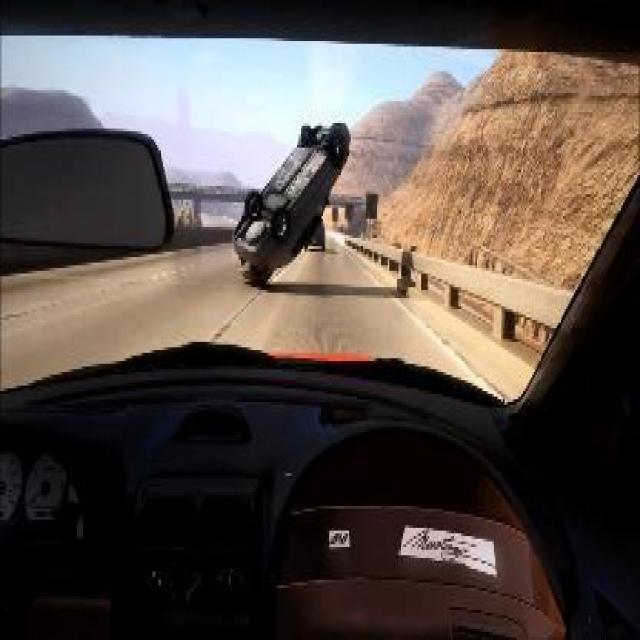accident: (229, 112, 351, 285)
